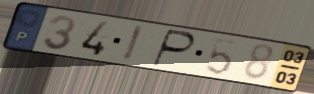3: (42, 14, 79, 52)
4: (77, 19, 109, 58)
5: (204, 36, 240, 77)
8: (240, 43, 277, 83)
I: (119, 23, 146, 64)
P: (149, 28, 198, 69)
